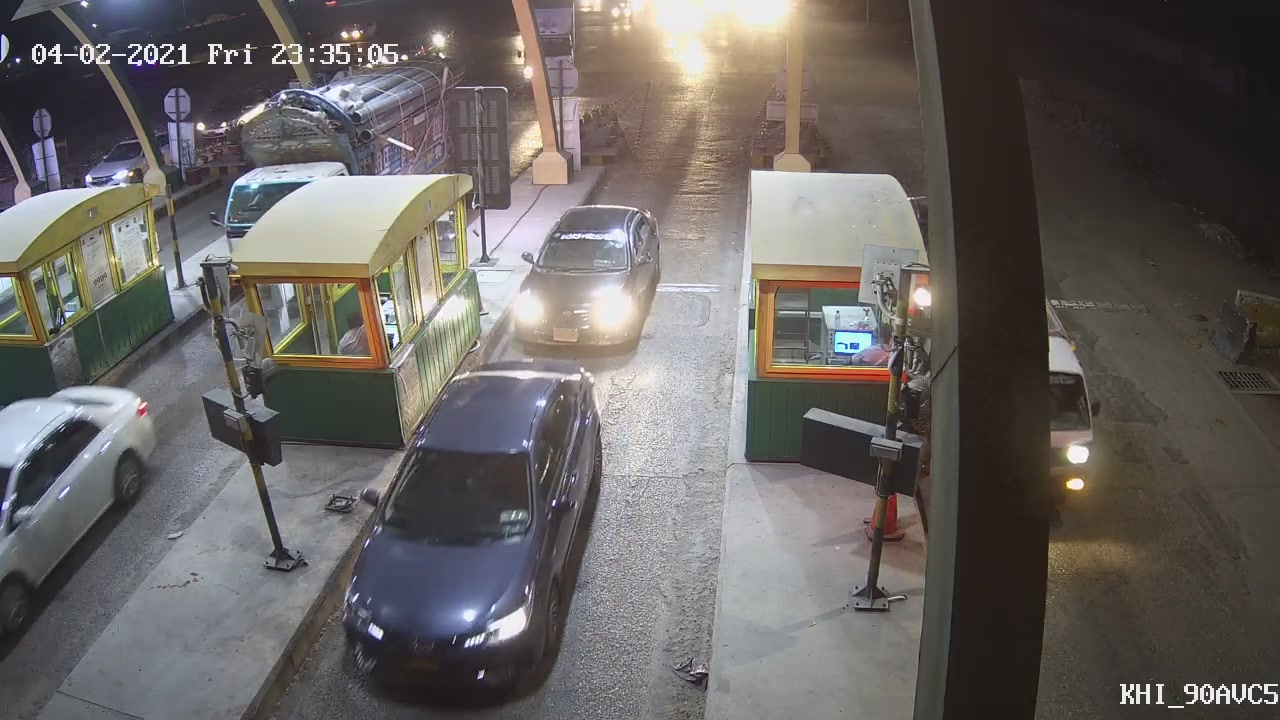F1: (339, 356, 607, 695), (509, 201, 667, 355)
